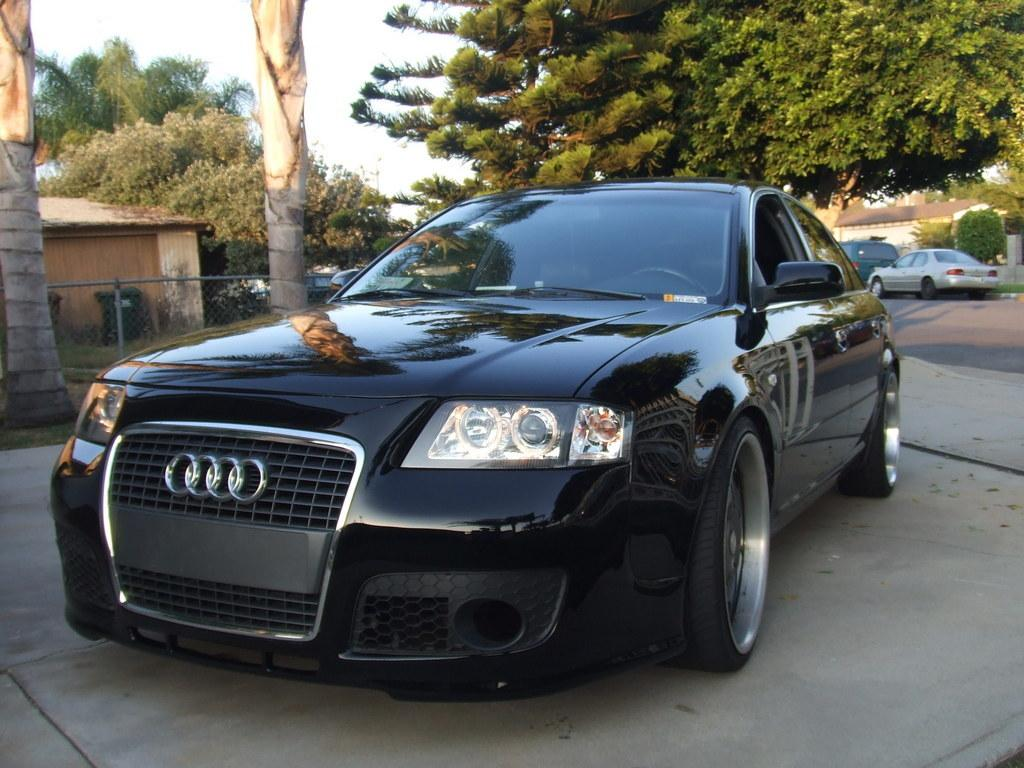Audi: (153, 440, 287, 514)
